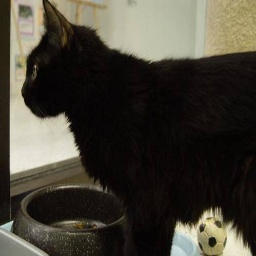cat: (20, 3, 256, 256)
